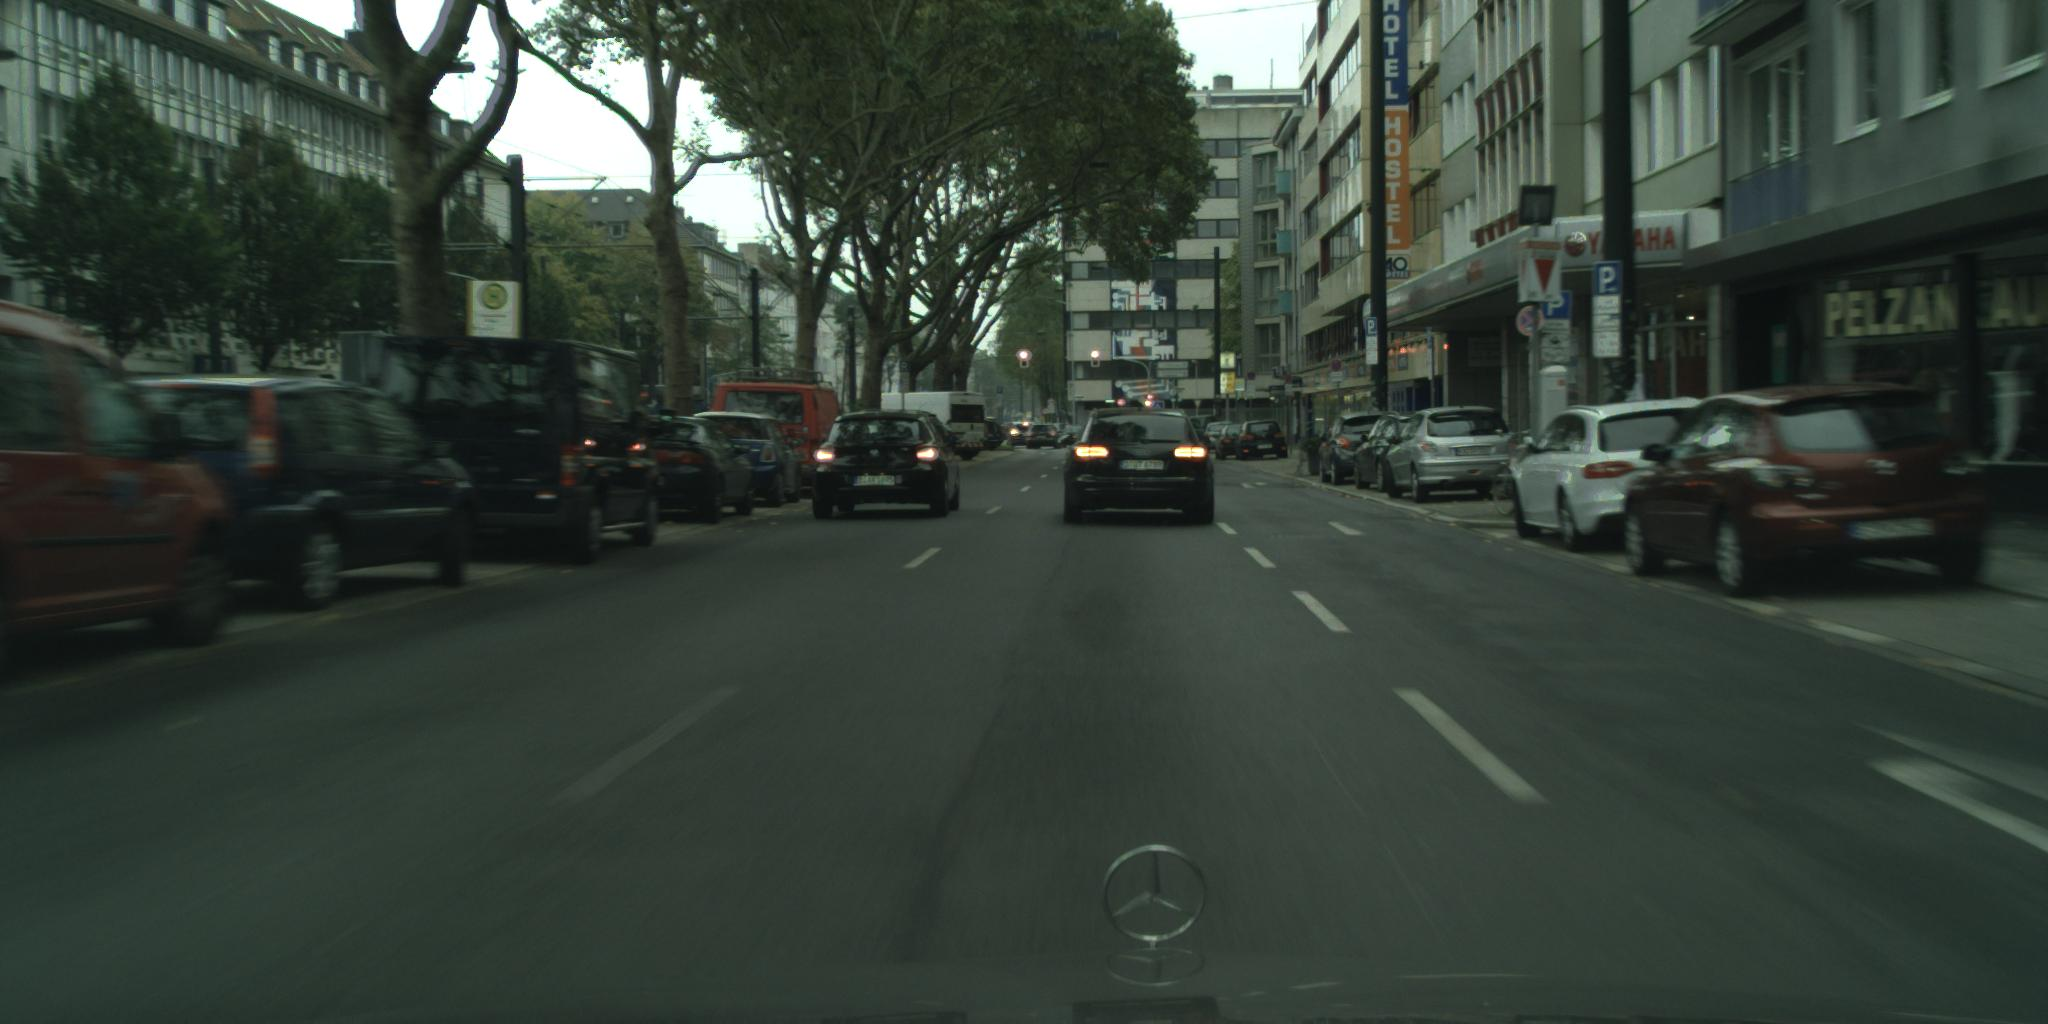bicycle: (1492, 430, 1543, 519)
car: (120, 370, 479, 614), (1, 298, 242, 650), (1624, 381, 1994, 600), (370, 336, 661, 568), (1511, 397, 1718, 555), (1055, 408, 1216, 526), (812, 410, 963, 522), (709, 366, 841, 492), (1384, 406, 1522, 505), (643, 414, 758, 522), (695, 411, 803, 509), (882, 392, 989, 464), (1319, 411, 1400, 487), (1354, 411, 1428, 492), (1236, 421, 1289, 461)
